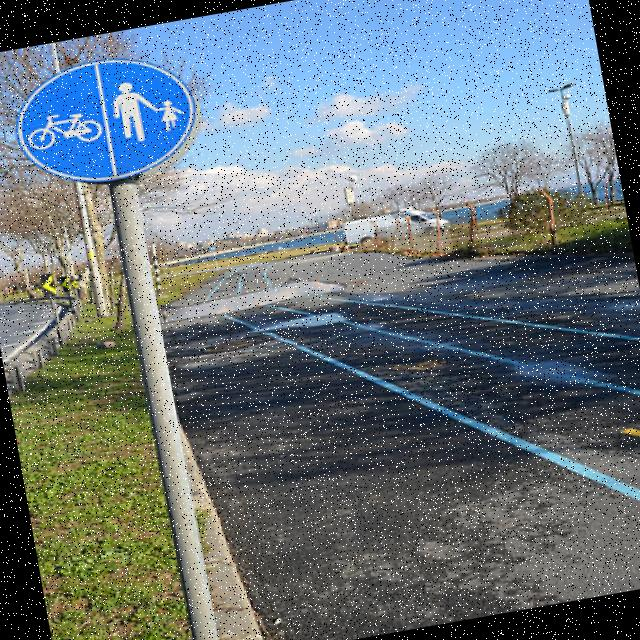bicycle: (0, 27, 227, 218)
